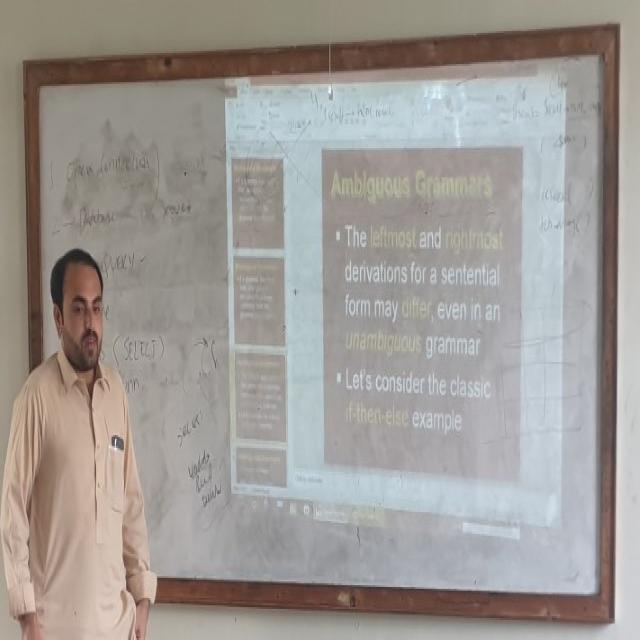Instructor: (15, 253, 138, 626)
Slide: (224, 59, 565, 560)
White-board: (29, 36, 615, 614)
